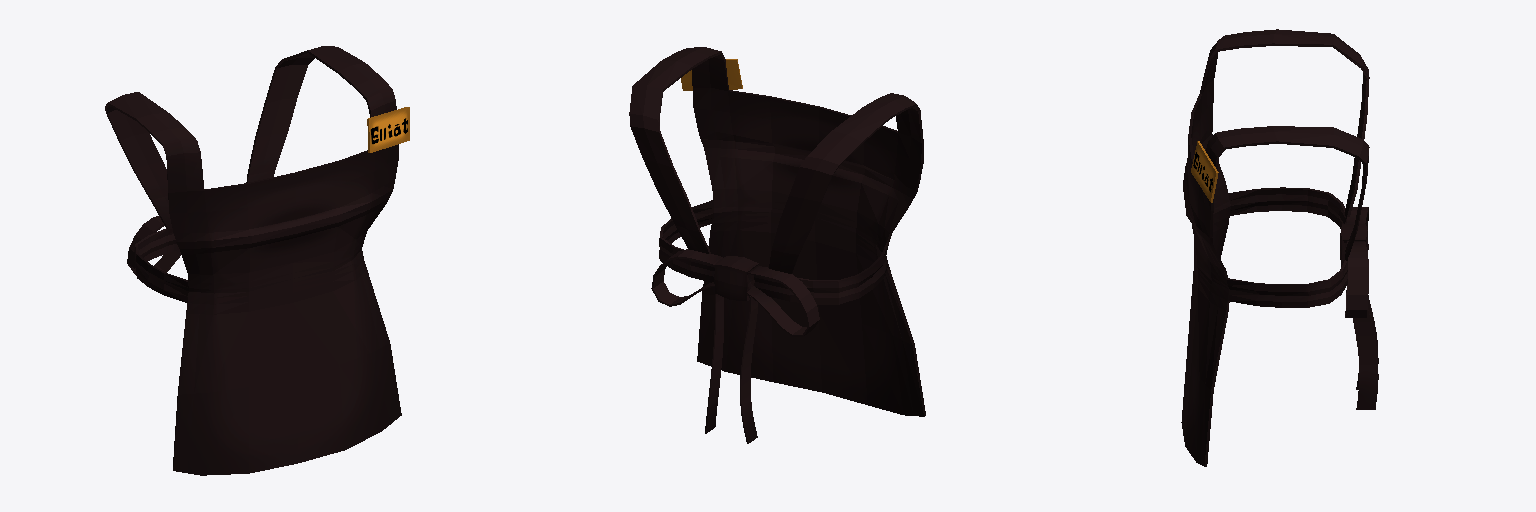
3 renders of one model, left to right at view 1: azimuth 30°, elevation 25°; view 2: azimuth 150°, elevation 25°; view 3: azimuth 270°, elevation 25°, orthographic.
Visible parts, largest first — view 1: apron; view 2: apron; view 3: apron.
Boxes of the visible parts, <box> form: apron: <box>105,46,409,475</box>; apron: <box>629,47,925,443</box>; apron: <box>1181,29,1378,466</box>.
Bounding box in the file's own units: 1.91 × 2.55 × 1.34.
Materials: 1 (1 with a texture image).